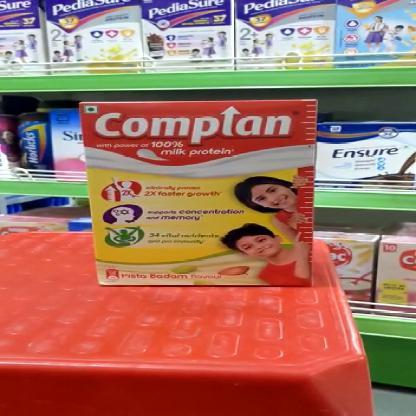Complan Pista Badam: (82, 101, 316, 286)
